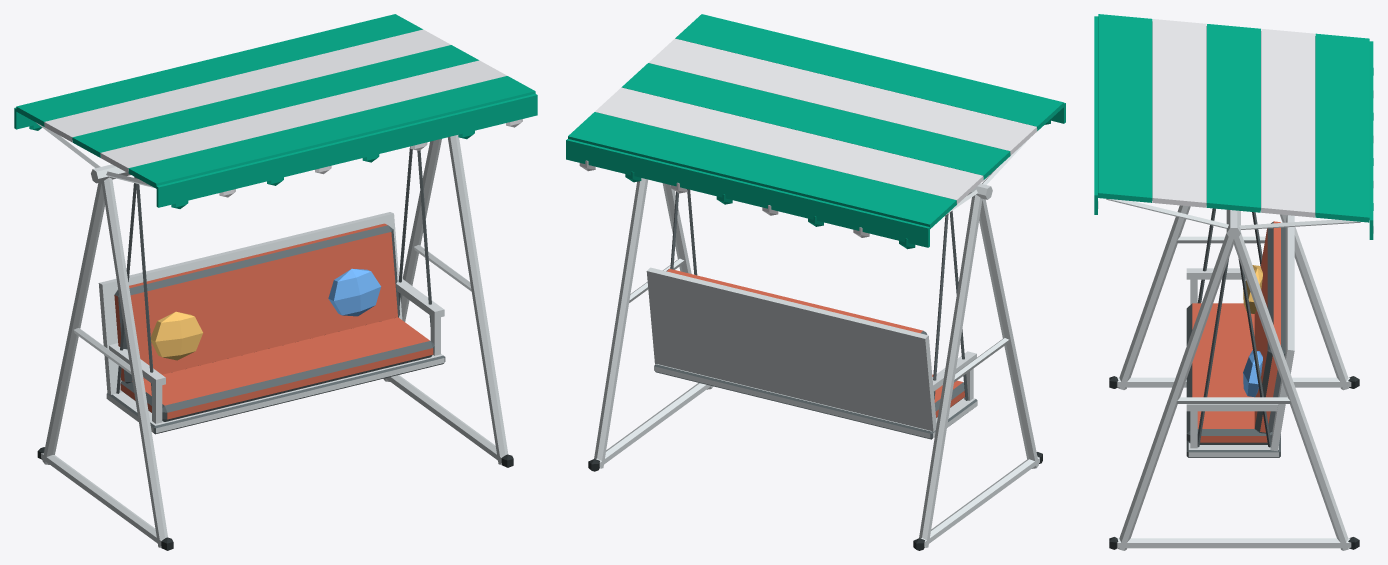
File: hollywoodschaukel.glb
3 views of the same model, side by side, from view 1: azimuth 30°, elevation 25°; view 2: azimuth 150°, elevation 25°; view 3: azimuth 270°, elevation 25° (orthographic). The views are drawn at different scales.
Parts seen in each view (by area): view 1: hollywoodschaukel-m, schaukel-m; view 2: hollywoodschaukel-m, schaukel-m; view 3: hollywoodschaukel-m, schaukel-m.
Boxes of the visible parts, x1=… form: hollywoodschaukel-m: x1=14, y1=14, x2=537, y2=550; schaukel-m: x1=98, y1=146, x2=445, y2=434; hollywoodschaukel-m: x1=566, y1=14, x2=1065, y2=550; schaukel-m: x1=646, y1=189, x2=977, y2=439; hollywoodschaukel-m: x1=1094, y1=14, x2=1373, y2=550; schaukel-m: x1=1186, y1=208, x2=1294, y2=457.
Bounding box in the file's own units: 2.34 × 2.23 × 1.54.
